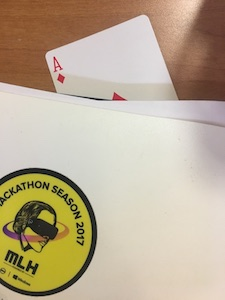AceOfDiamonds: (41, 14, 186, 115)
